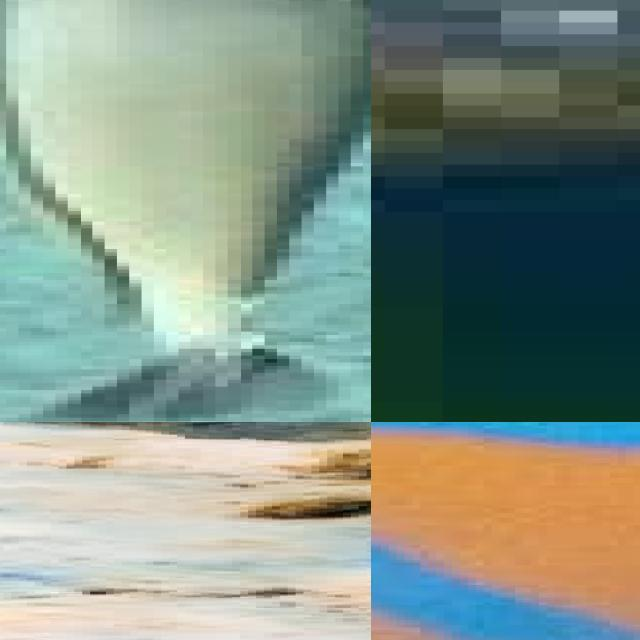fish: (0, 0, 371, 422), (371, 0, 640, 224)
